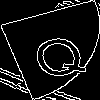Q: (24, 25, 91, 84)
